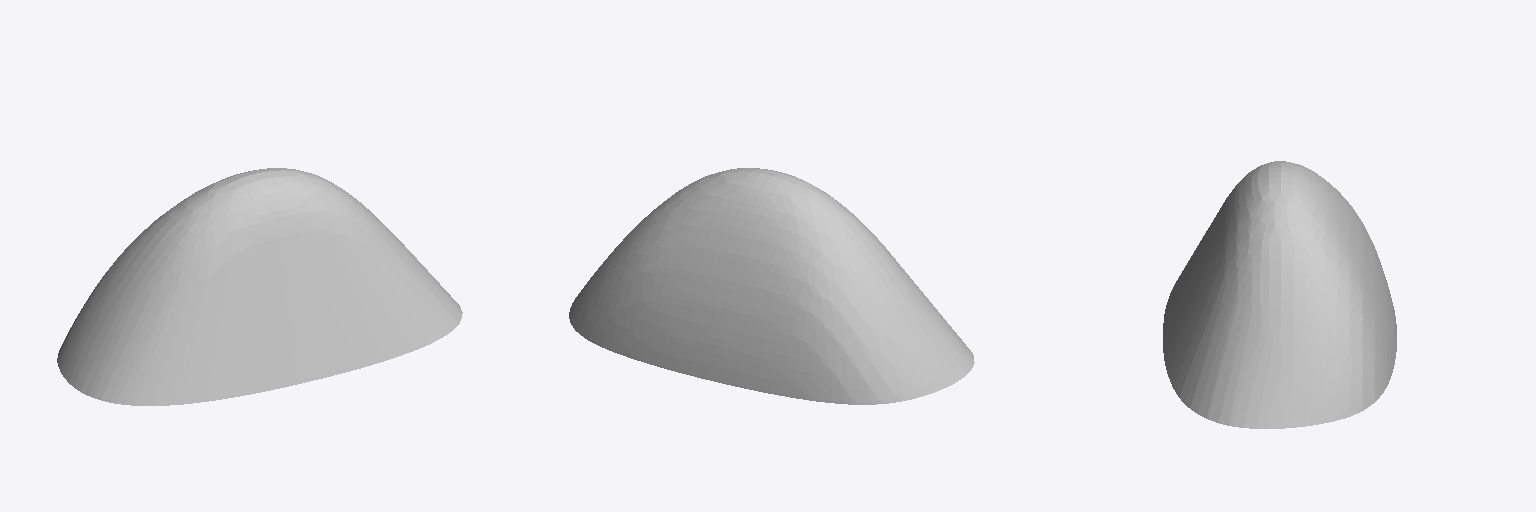
The model's file is duck_collision_0.obj.
The picture shows the model from 3 angles: view 1: azimuth 30°, elevation 25°; view 2: azimuth 150°, elevation 25°; view 3: azimuth 270°, elevation 25°; orthographic projection.
Size of the model in its own units: 0.0392 by 0.0163 by 0.0212.